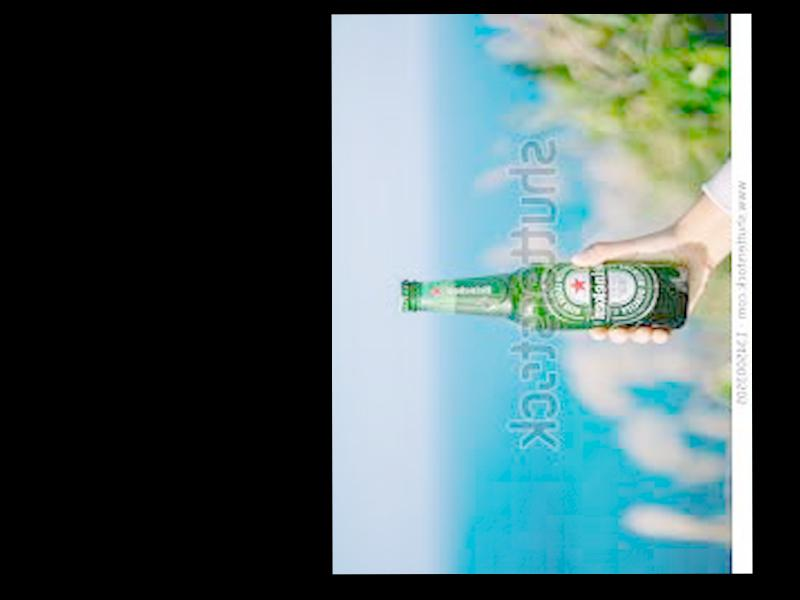Beer: (399, 260, 689, 330)
